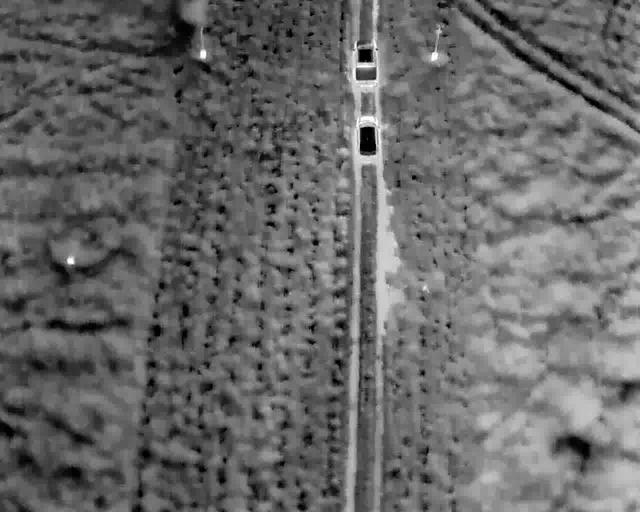car: (352, 39, 378, 88), (356, 113, 379, 158)
